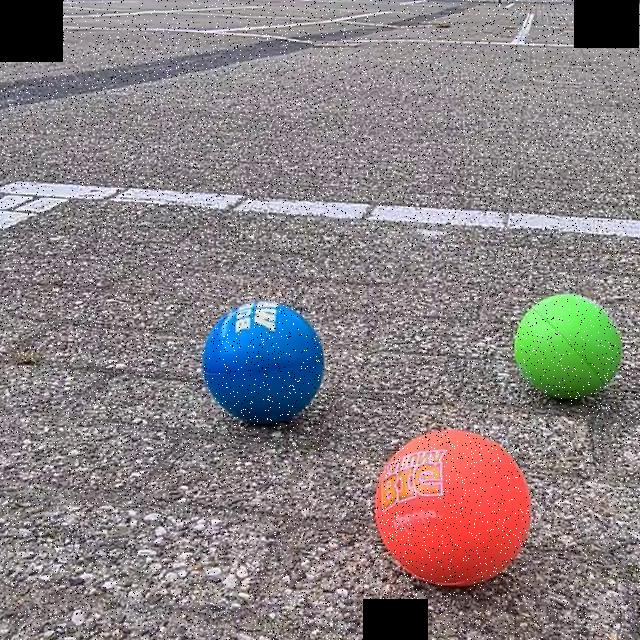ball: (199, 294, 328, 427), (512, 288, 626, 401)
